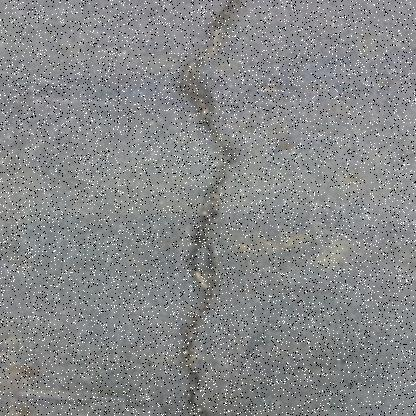Cracks: (161, 0, 255, 415)
